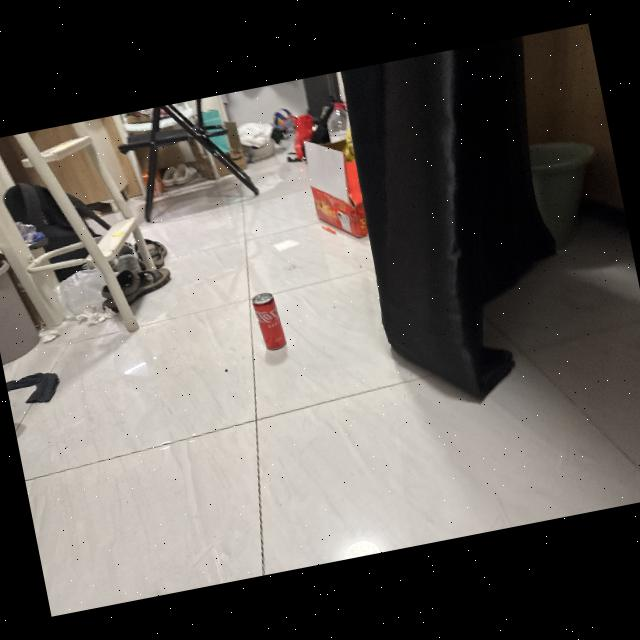Cola: (242, 286, 294, 360)
